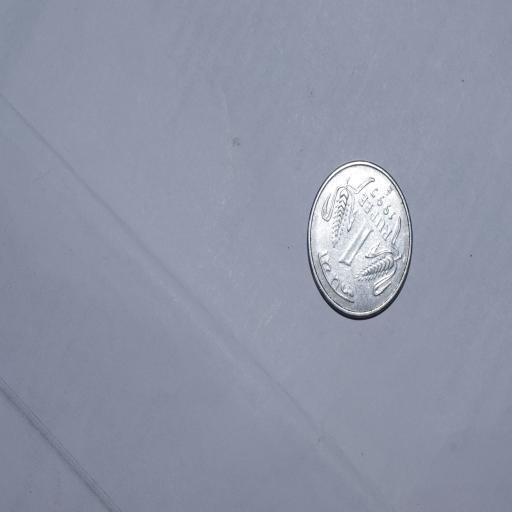rupee1: (302, 157, 416, 322)
